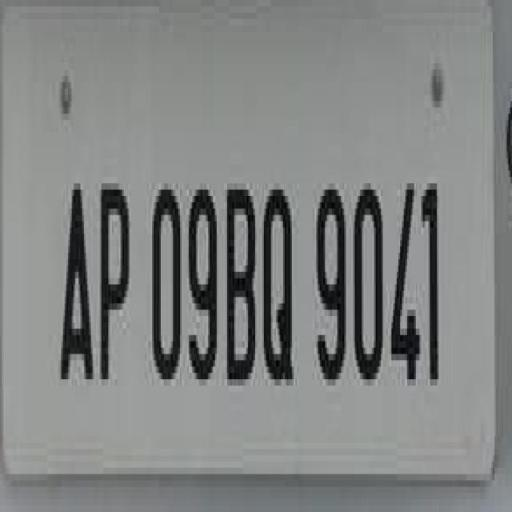number plate: (1, 0, 485, 486)
